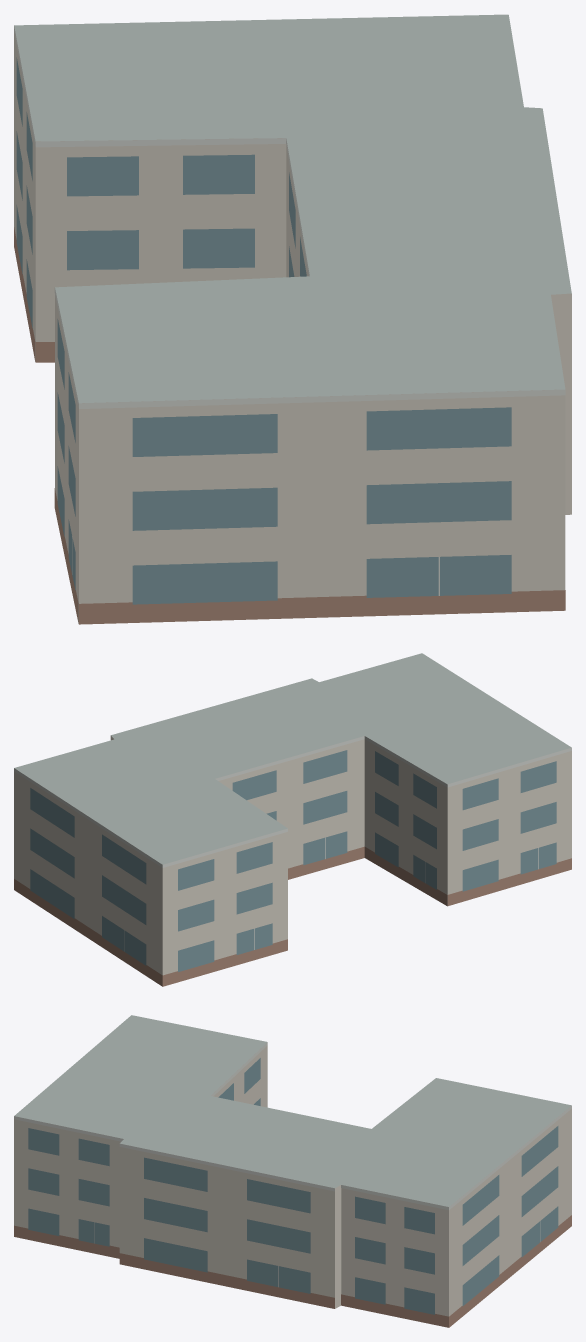
Rendered from survey-upis-32887860.glb.
3 renders of one model, top to bottom at view 1: azimuth 30°, elevation 25°; view 2: azimuth 150°, elevation 25°; view 3: azimuth 270°, elevation 25°, orthographic. The views are drawn at different scales.
Visible parts, largest first — view 1: survey-upis-32887860.tmp; view 2: survey-upis-32887860.tmp; view 3: survey-upis-32887860.tmp.
Boxes of the visible parts, <box> form: survey-upis-32887860.tmp: <box>14,14,571,624</box>; survey-upis-32887860.tmp: <box>14,653,571,986</box>; survey-upis-32887860.tmp: <box>14,1015,571,1327</box>.
Size of the model in its own units: 31.21 by 9.15 by 38.32.
